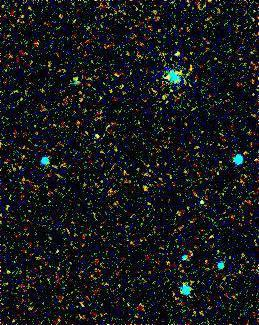star: (164, 36, 194, 66)
